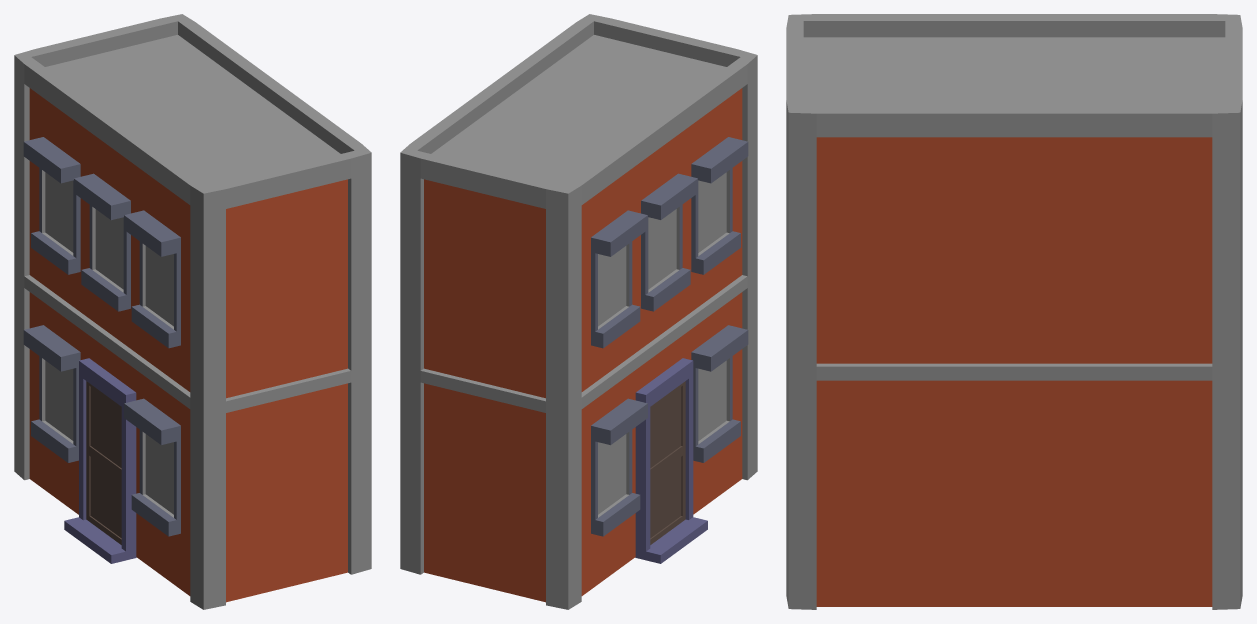
File: building_1_001.glb
3 views of the same model, side by side, from view 1: azimuth 30°, elevation 25°; view 2: azimuth 150°, elevation 25°; view 3: azimuth 270°, elevation 25° (orthographic). The views are drawn at different scales.
Visible parts, largest first — view 1: building_1.001; view 2: building_1.001; view 3: building_1.001.
Part boxes in pixels (x1,y1,x2,y2): building_1.001: [14, 14, 371, 609]; building_1.001: [400, 14, 757, 609]; building_1.001: [786, 14, 1242, 609].
Bounding box in the file's own units: 2.38 × 4.97 × 4.13.
